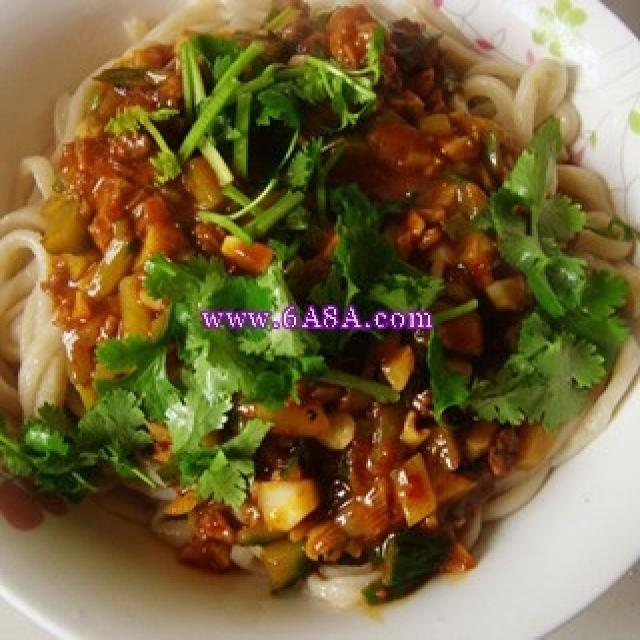面条主食: (10, 14, 636, 602)
